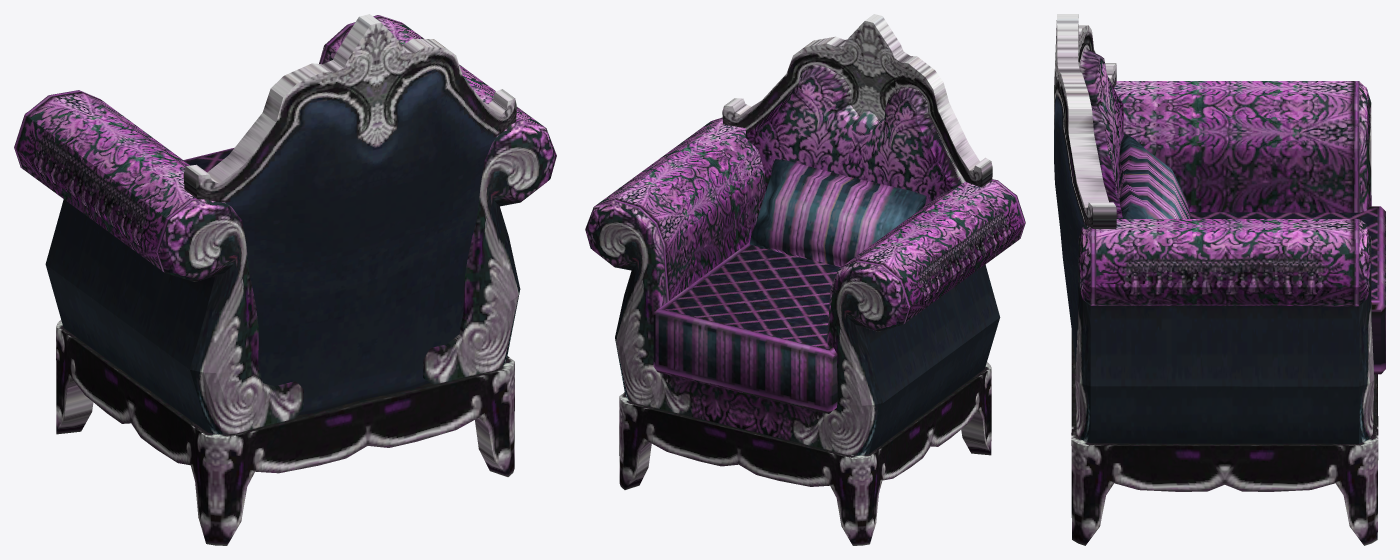
Rendered from furni_0201208_02.FBX.
3 renders of one model, left to right at view 1: azimuth 30°, elevation 25°; view 2: azimuth 150°, elevation 25°; view 3: azimuth 270°, elevation 25°, orthographic. The views are drawn at different scales.
Visible parts, largest first — view 1: furni_0201208_02; view 2: furni_0201208_02; view 3: furni_0201208_02.
Boxes of the visible parts, box(x1,y1,x2,y2) form: furni_0201208_02: box(14, 14, 556, 545); furni_0201208_02: box(585, 14, 1025, 545); furni_0201208_02: box(1054, 14, 1385, 545).
Bounding box in the file's own units: 79.29 × 93.85 × 61.43.
